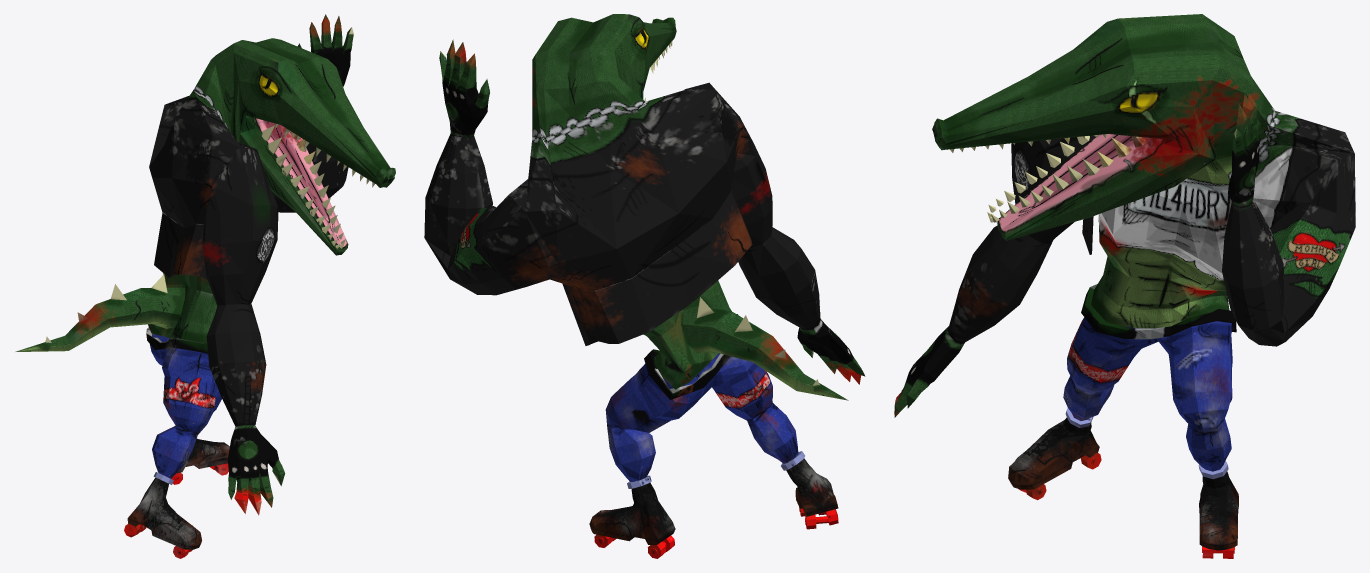
File: cocodrilaBonesSelect_000047.obj
3 views of the same model, side by side, from view 1: azimuth 30°, elevation 25°; view 2: azimuth 150°, elevation 25°; view 3: azimuth 270°, elevation 25° (orthographic). The views are drawn at different scales.
Parts seen in each view (by area): view 1: Crocodile.002_Cylinder.002; view 2: Crocodile.002_Cylinder.002; view 3: Crocodile.002_Cylinder.002.
Part boxes in pixels (x1,y1,x2,y2): Crocodile.002_Cylinder.002: (15,14,395,558); Crocodile.002_Cylinder.002: (424,14,865,558); Crocodile.002_Cylinder.002: (894,14,1355,558).
Bounding box in the file's own units: 5.22 × 6.17 × 4.64.
